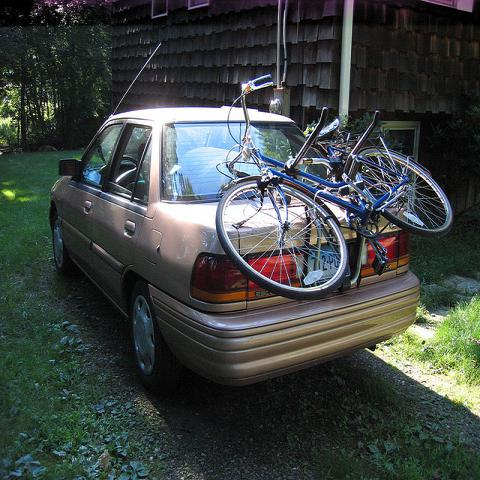car: (48, 41, 418, 384)
